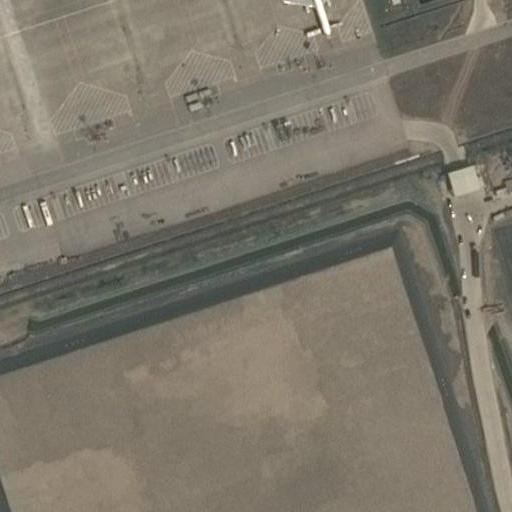Aircraft: (270, 0, 360, 53)
